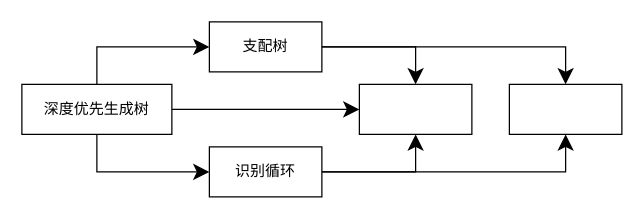
The diagram is 644 pixels wide and 219 high, and some of its shapes have lost their labels. The centre of each missing label's shape, as x and y in pixels:
归约序列: point 415,108
路径摘要: point 565,108
